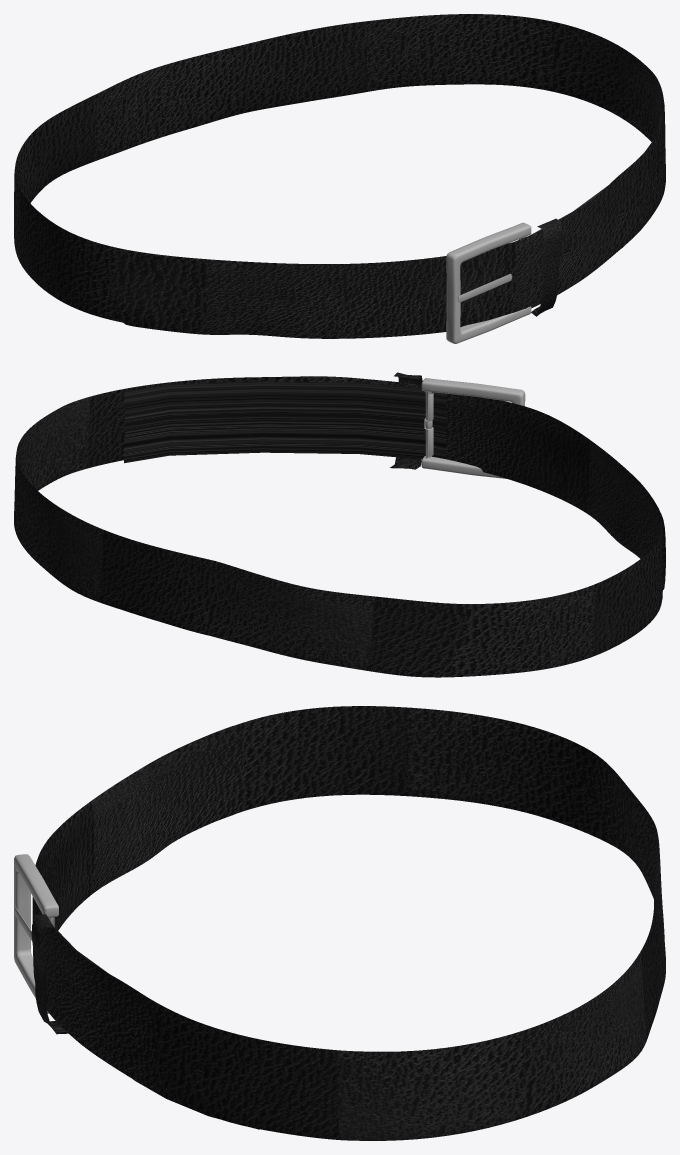
Rendered from belt.glb.
3 renders of one model, top to bottom at view 1: azimuth 30°, elevation 25°; view 2: azimuth 150°, elevation 25°; view 3: azimuth 270°, elevation 25°, orthographic. The views are drawn at different scales.
Parts seen in each view (by area): view 1: BezierCurve.001, Object_4.002, Cloth.003; view 2: BezierCurve.001, Object_4.002, Cloth.003; view 3: BezierCurve.001, Object_4.002, Cloth.003.
Boxes of the visible parts, bbox=[...] form: BezierCurve.001: bbox=[14, 14, 665, 338]; Object_4.002: bbox=[446, 222, 531, 343]; Cloth.003: bbox=[531, 218, 562, 316]; BezierCurve.001: bbox=[14, 376, 665, 677]; Object_4.002: bbox=[421, 378, 525, 478]; Cloth.003: bbox=[390, 372, 422, 469]; BezierCurve.001: bbox=[32, 706, 665, 1140]; Object_4.002: bbox=[14, 854, 58, 1013]; Cloth.003: bbox=[31, 914, 67, 1034].
Bounding box in the file's own units: 32.91 × 5.11 × 25.47.
Materials: 2 (1 with a texture image).
